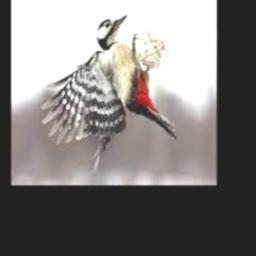Woodpecker: (41, 14, 177, 171)
